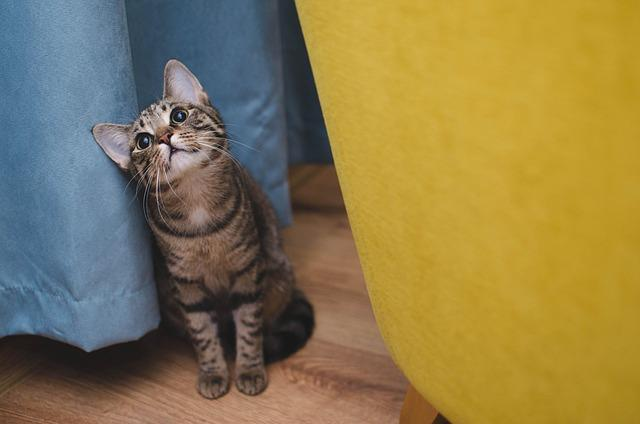Non_Gorille: (62, 27, 343, 424)
